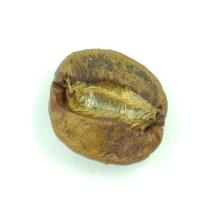NG: (65, 54, 155, 152)
